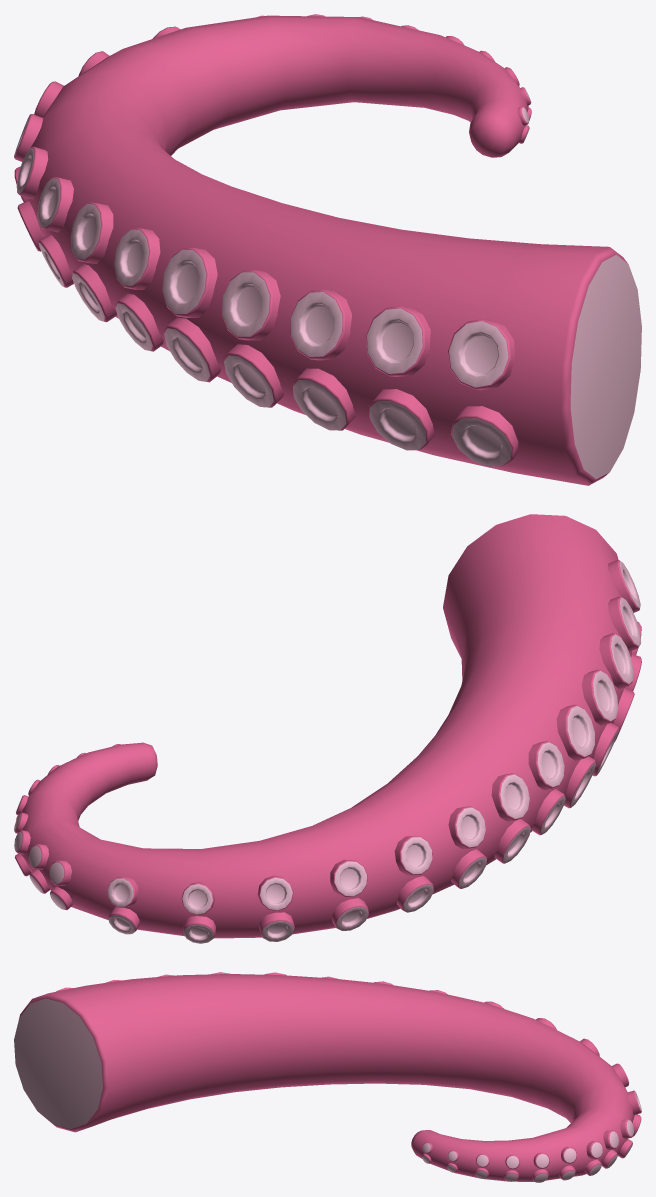
File: Octopus_Tentacles_1.fbx
The picture shows the model from 3 angles, top to bottom: view 1: azimuth 30°, elevation 25°; view 2: azimuth 150°, elevation 25°; view 3: azimuth 270°, elevation 25°; orthographic projection. The views are drawn at different scales.
Parts seen in each view (by area): view 1: Octopus_Tentacles_1; view 2: Octopus_Tentacles_1; view 3: Octopus_Tentacles_1.
Boxes of the visible parts, <box> form: Octopus_Tentacles_1: <box>14,14,641,485</box>; Octopus_Tentacles_1: <box>14,514,641,943</box>; Octopus_Tentacles_1: <box>14,972,641,1182</box>.
Size of the model in its own units: 31.16 by 12.44 by 53.97.
